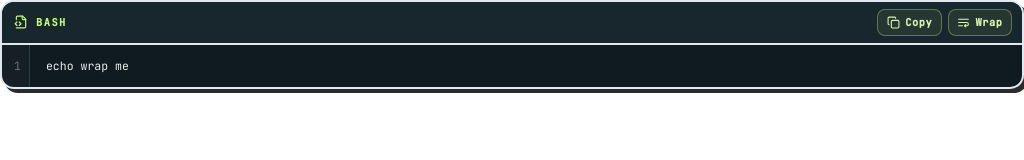
Test: CodeBlock › toggles word wrap with aria-pressed and changes the code pane whitespace
The width and height of the screenshot is (1024, 160).
Expected: the element with class "chat-codeblock-code" has style "whiteSpace: pre", [46,58,129,73]
Click the button with test id "chat-codeblock-wrap".
click(980, 22)  # box [948,9,1012,36]
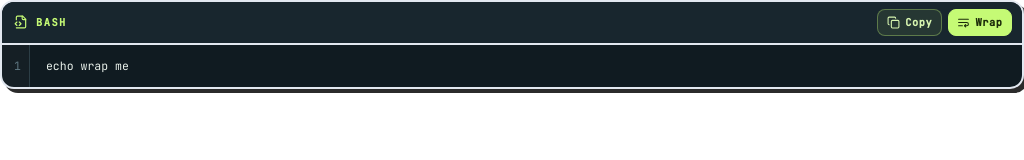
Now the button with test id "chat-codeblock-wrap" is pressed
Click the button with test id "chat-codeblock-wrap".
click(980, 22)  # box [948,9,1012,36]
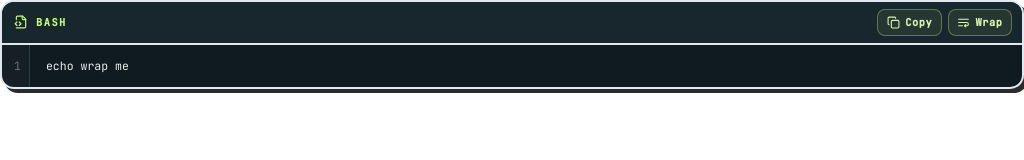
Now the button with test id "chat-codeblock-wrap" is not pressed, box [948,9,1012,36]
